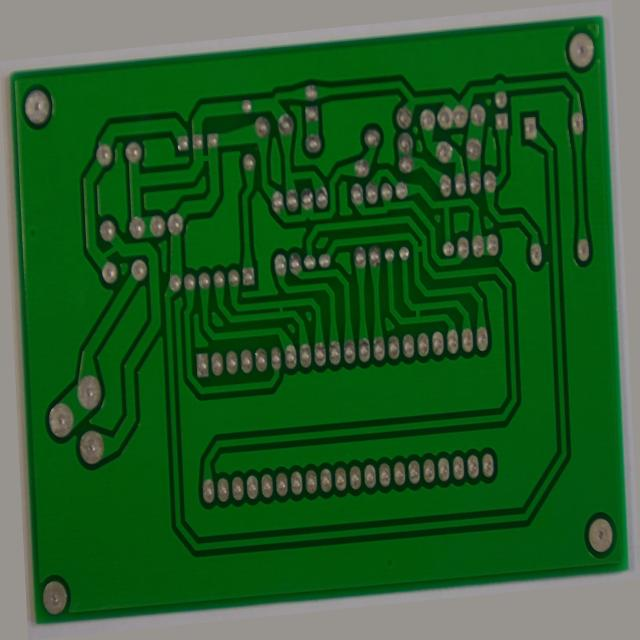short: (87, 206, 119, 244), (410, 307, 432, 337), (198, 117, 221, 142), (418, 239, 438, 267), (270, 289, 289, 318)
